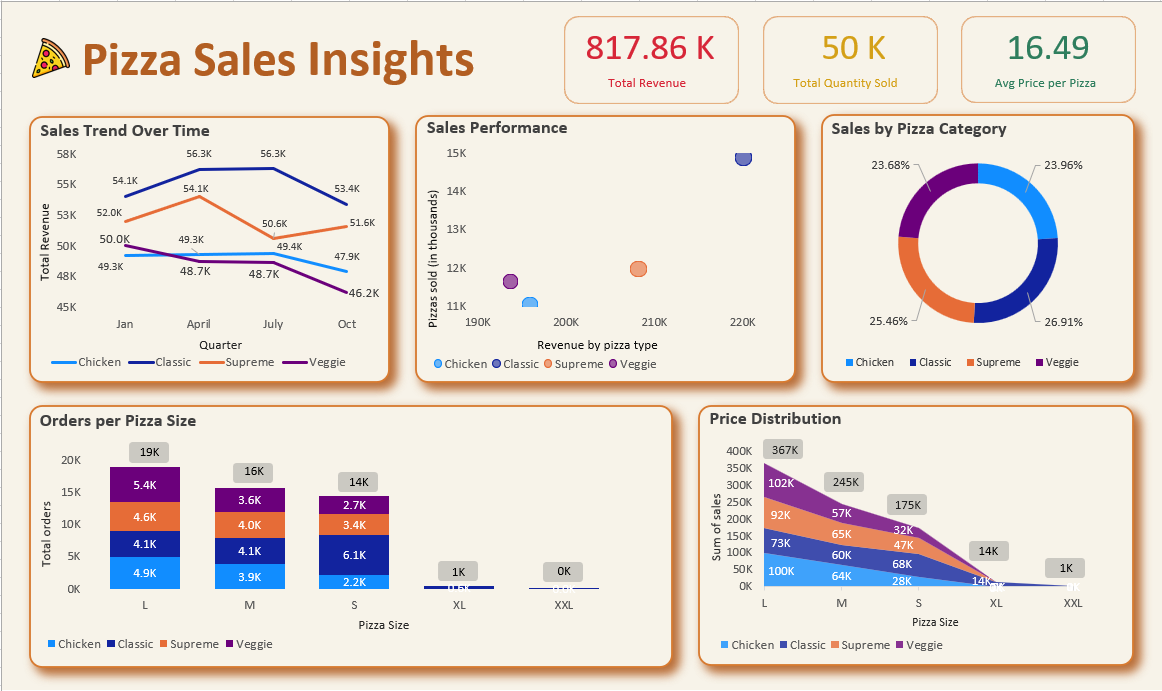

The page's visual inventory and layout, read from the dashboard file:
{"tool":"powerbi","page":{"name":"Insight 1","canvas":[1280,720],"ordinal":0},"visuals":[{"type":"scatterChart","title":"Sales Performance","fields":{"X":["Sum(pizza_sales.total_price)"],"Y":["Sum(pizza_sales.quantity)"],"Series":["pizza_sales.pizza_category"],"Size":["Sum(pizza_sales.unit_price)"]},"box":[456.2,118.8,421.2,281.2],"z":0},{"type":"lineChart","title":"Sales Trend Over Time","fields":{"Category":["pizza_sales.order_date.Variation.Date Hierarchy.Year","pizza_sales.order_date.Variation.Date Hierarchy.Quarter","pizza_sales.order_date.Variation.Date Hierarchy.Month","pizza_sales.order_date.Variation.Date Hierarchy.Day"],"Y":["Sum(pizza_sales.total_price)"],"Series":["pizza_sales.pizza_category"]},"box":[28.8,118.8,400,281.2],"z":1000},{"type":"donutChart","title":"Sales by Pizza Category","fields":{"Y":["Sum(pizza_sales.total_price)"],"Series":["pizza_sales.pizza_category"]},"box":[906.2,118.8,346.2,278.8],"z":2000},{"type":"ribbonChart","title":"Price Distribution","fields":{"Category":["pizza_sales.pizza_size"],"Y":["Sum(pizza_sales.unit_price)"],"Series":["pizza_sales.pizza_category"]},"box":[693,417.2,559.9,281.3],"z":3000},{"type":"columnChart","title":"Orders per Pizza Size","fields":{"Category":["pizza_sales.pizza_size"],"Y":["Sum(pizza_sales.quantity)"],"Series":["pizza_sales.pizza_category"]},"box":[28.8,417.2,638.1,285.4],"z":4000},{"type":"card","fields":{"Values":["Sum(pizza_sales.total_price)"]},"box":[622.5,10,192.5,95],"z":5000},{"type":"card","fields":{"Values":["Sum(pizza_sales.quantity)"]},"box":[841.2,10,192.5,95],"z":6000},{"type":"card","fields":{"Values":["Avg(pizza_sales.unit_price)"]},"box":[1060,10,192.5,95],"z":7000},{"type":"textbox","title":"Pizza Sales Insights","box":[92,24.7,468.7,64.7],"z":8000},{"type":"image","box":[28.9,27.8,58.5,58.9],"z":9000}]}

Visuals, with their boxes in screenshot pixels (x1, y1, x2, y2):
"Sales Performance" scatterChart: {"x1": 414, "y1": 137, "x2": 792, "y2": 388}
"Sales Trend Over Time" lineChart: {"x1": 32, "y1": 137, "x2": 390, "y2": 388}
"Sales by Pizza Category" donutChart: {"x1": 817, "y1": 137, "x2": 1127, "y2": 386}
"Price Distribution" ribbonChart: {"x1": 626, "y1": 404, "x2": 1128, "y2": 656}
"Orders per Pizza Size" columnChart: {"x1": 32, "y1": 404, "x2": 603, "y2": 659}
card - Sum(pizza_sales.total_price): {"x1": 563, "y1": 39, "x2": 736, "y2": 124}
card - Sum(pizza_sales.quantity): {"x1": 759, "y1": 39, "x2": 931, "y2": 124}
card - Avg(pizza_sales.unit_price): {"x1": 955, "y1": 39, "x2": 1127, "y2": 124}
"Pizza Sales Insights" textbox: {"x1": 88, "y1": 52, "x2": 508, "y2": 110}
image: {"x1": 32, "y1": 55, "x2": 84, "y2": 108}
